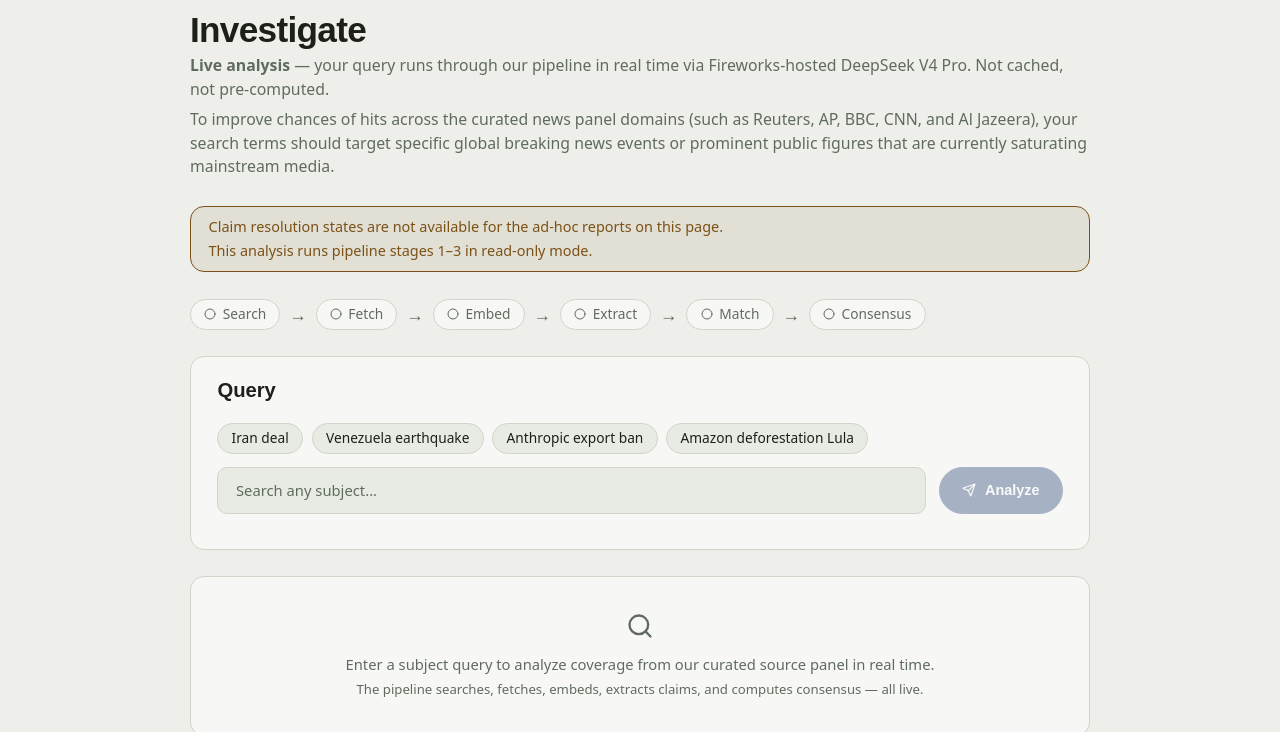
Test: Investigate Page › shows error and retry button on fetch failure
Type "test" into the field with placeholder "Search any subject..." at x=572, y=490, box 217,467 -> 926,514
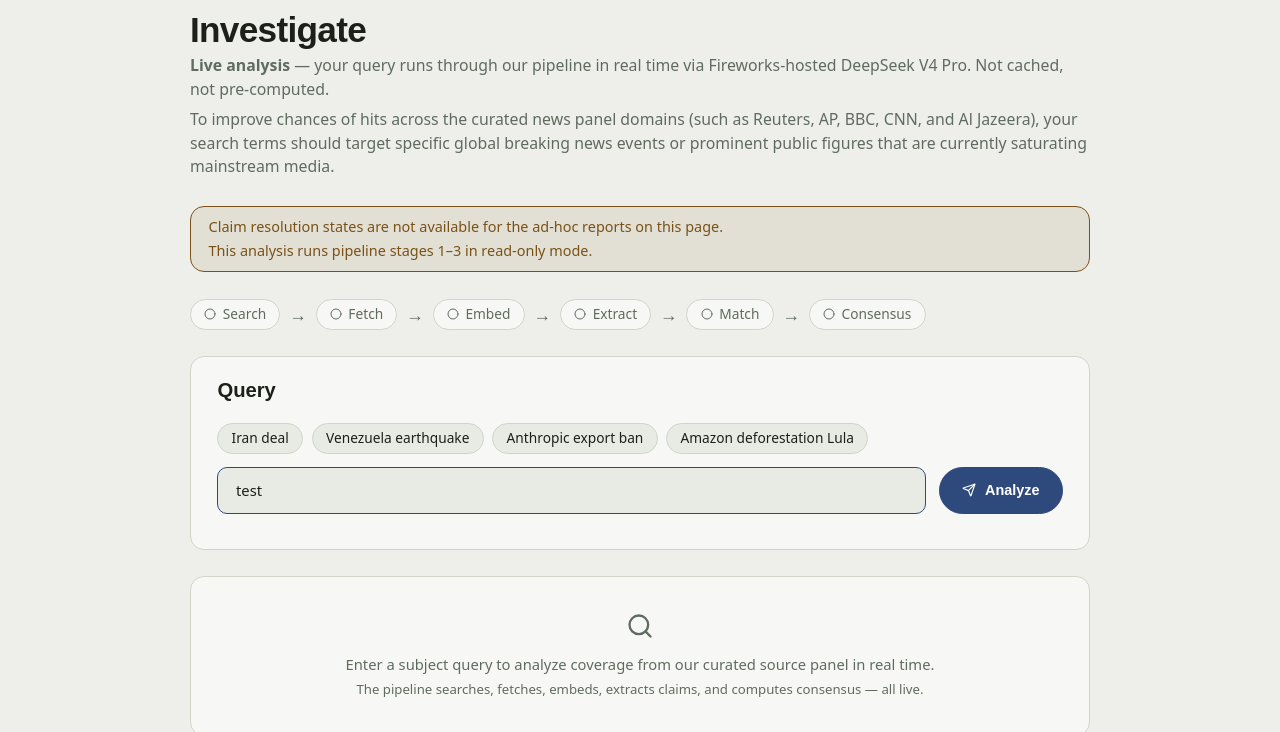
Click the button "Analyze" at x=1001, y=490, box 939,467 -> 1063,514
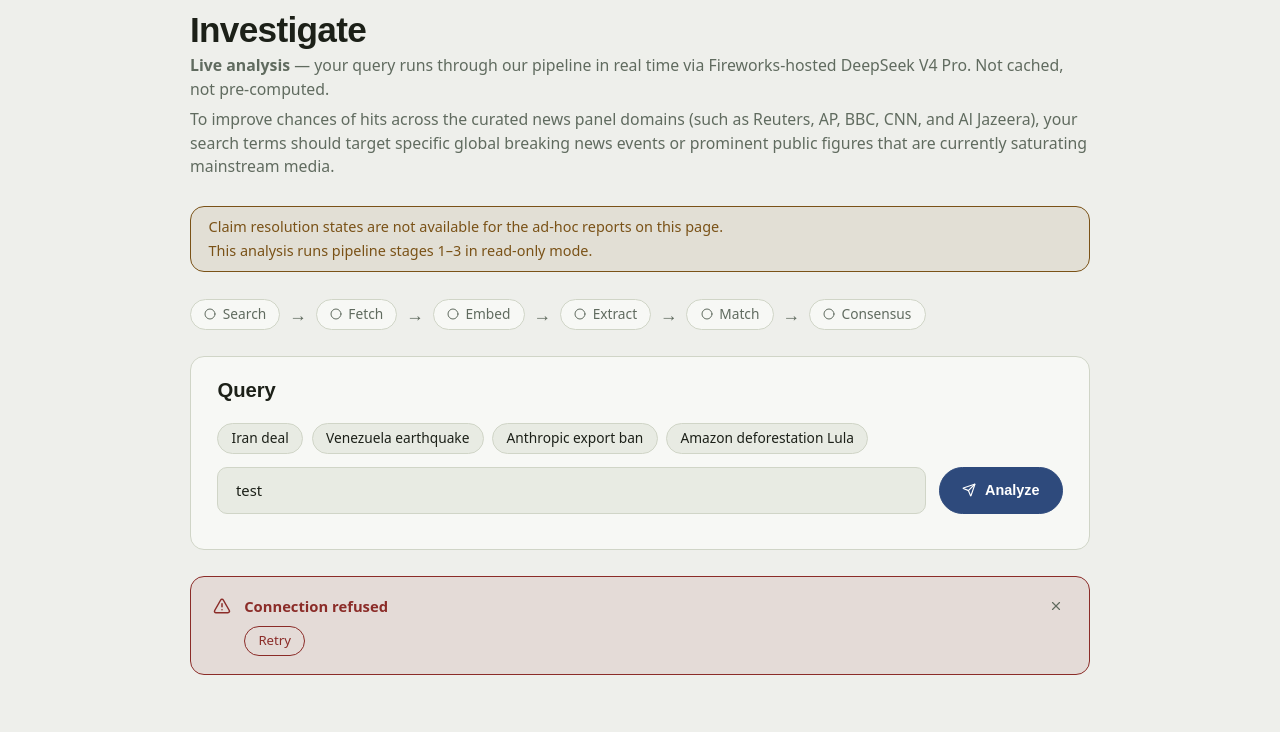
Check: the text "Connection refused" is shown, box 244,595 -> 388,617
Check: the button "Retry" is shown, box 244,626 -> 305,656
